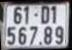-: (33, 13, 39, 17)
.: (39, 42, 43, 46)
1: (50, 6, 58, 24), (24, 5, 29, 25)
5: (7, 26, 17, 46)
6: (17, 27, 27, 44), (13, 6, 22, 24)
7: (29, 26, 38, 44)
8: (44, 26, 52, 45)
9: (55, 26, 64, 45)
D: (41, 5, 50, 24)
